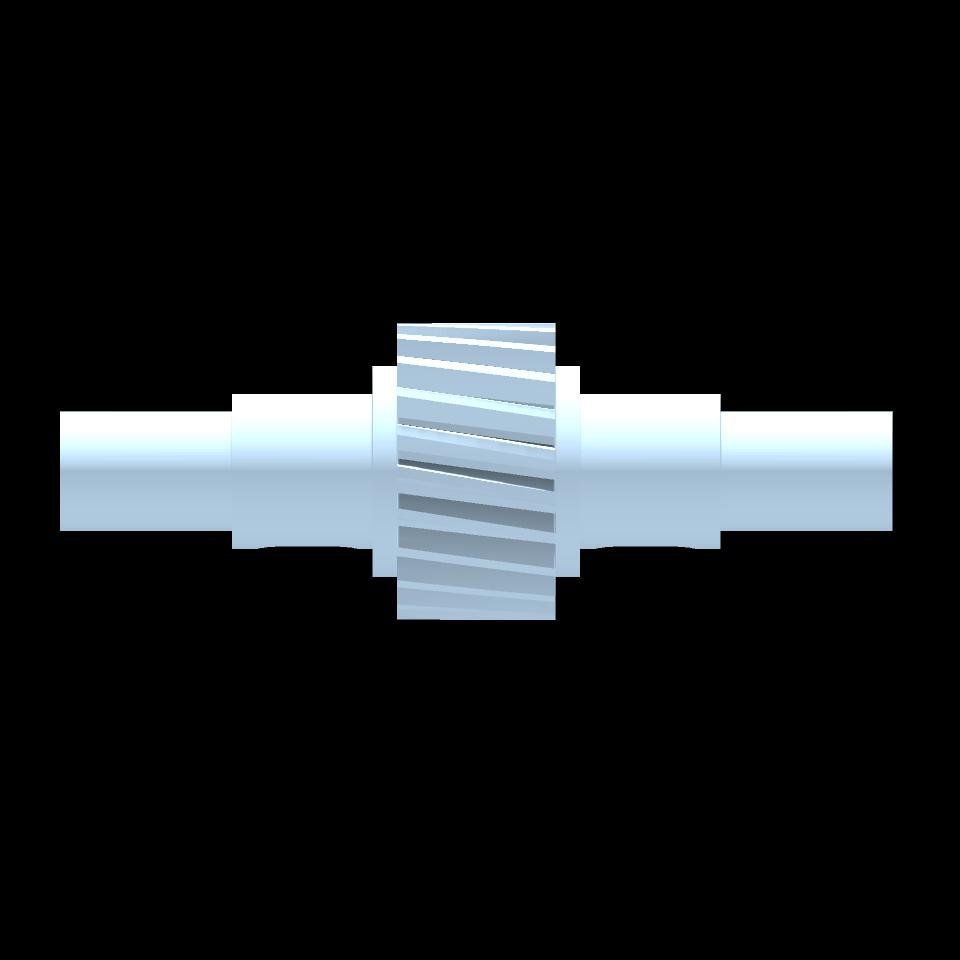Helical: (396, 324, 555, 620)
